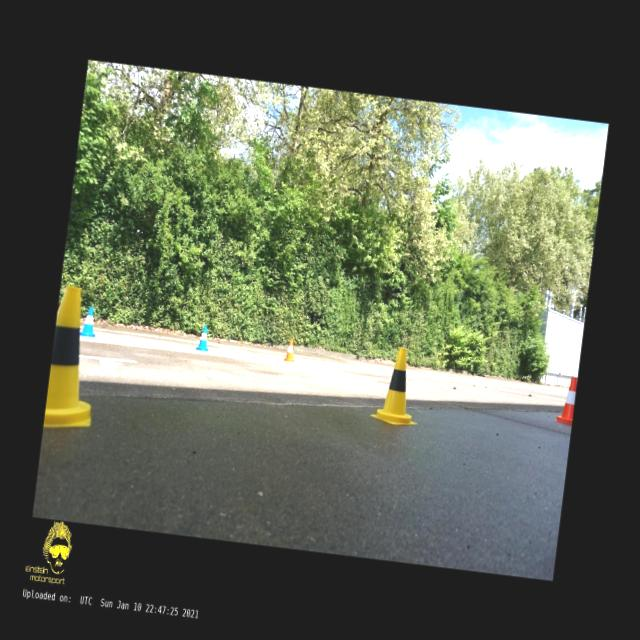blue_cone: (78, 305, 98, 337), (196, 324, 210, 350)
orange_cone: (554, 376, 576, 424), (283, 338, 296, 362)
yellow_cone: (43, 284, 106, 433), (369, 344, 425, 426)
